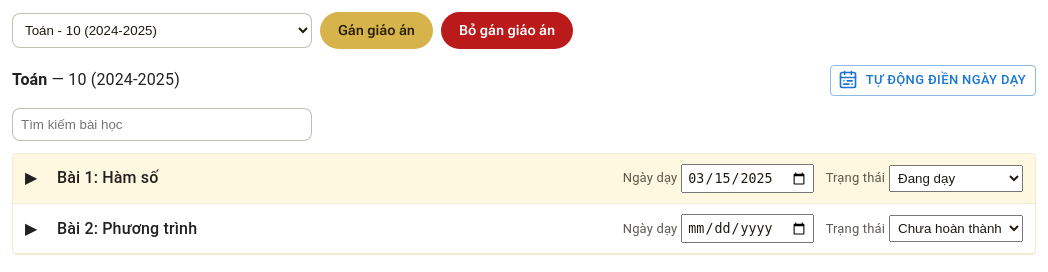
ClassLessonPlanTab › filters lessons by search term
Expected: the text "Bài 1: Hàm số" is shown, x1=57 y1=168 x2=158 y2=187
Type "Phương trình" into the field with placeholder "Tìm kiếm bài học".
click(162, 124); type("Phương trình")  # box x1=12 y1=108 x2=312 y2=140
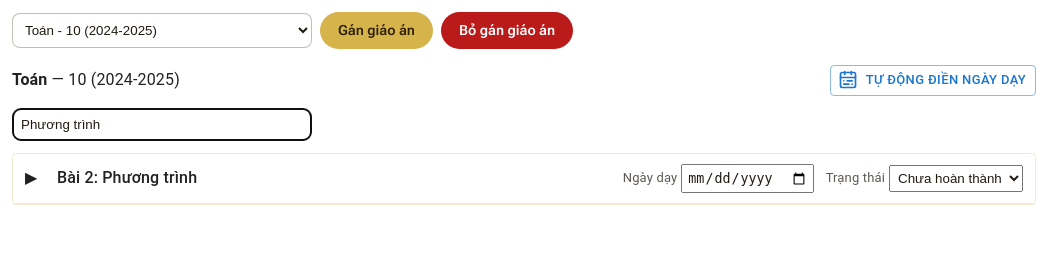
Expected: the text "Bài 2: Phương trình" is shown, x1=57 y1=168 x2=197 y2=187
Result: the button "Bài 1: Hàm số" is gone
